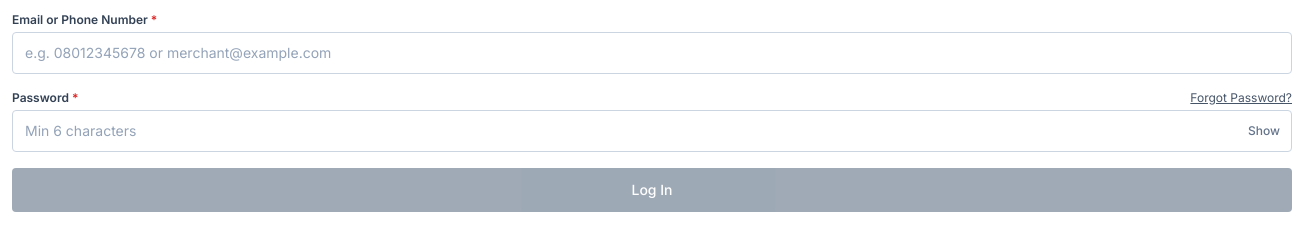
Vendor Login Flow Components › LoginForm Interactions & Validation › enables submit button only when valid email and password are provided
The width and height of the screenshot is (1304, 229).
Expected: the button with aria-label "Login" is disabled, x1=12 y1=168 x2=1292 y2=212
Step 1. Type "merchant@shoppal.ng" into the field labelled "Email or Phone Number *" → [652, 53], box x1=12 y1=32 x2=1292 y2=74
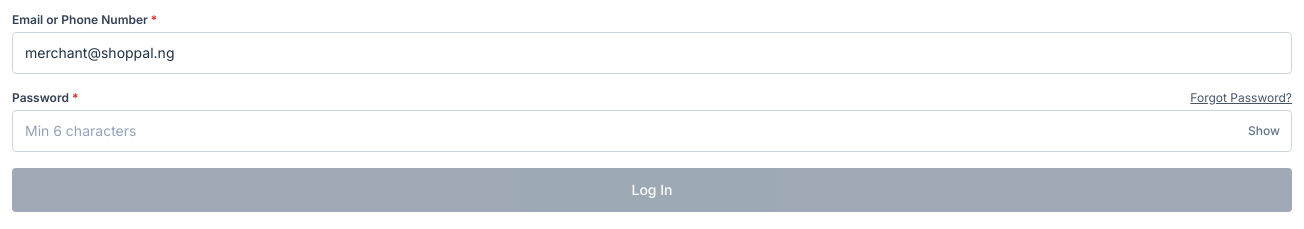
Step 2. Type "securePass123" into the password field labelled "Password *" → [652, 131], box x1=12 y1=110 x2=1292 y2=152
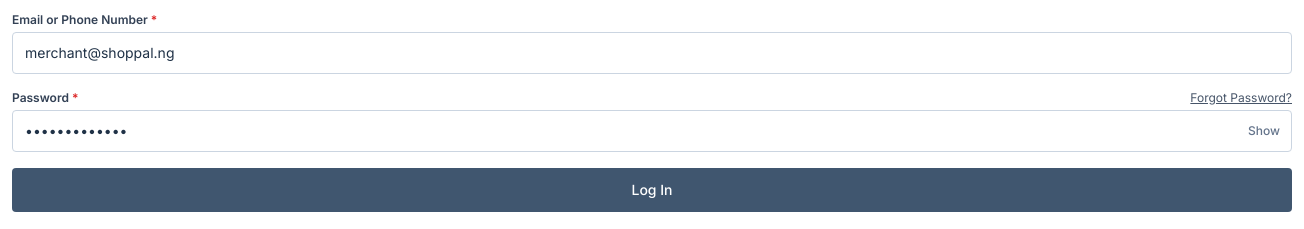
Expected: the button with aria-label "Login" is enabled, x1=12 y1=168 x2=1292 y2=212
